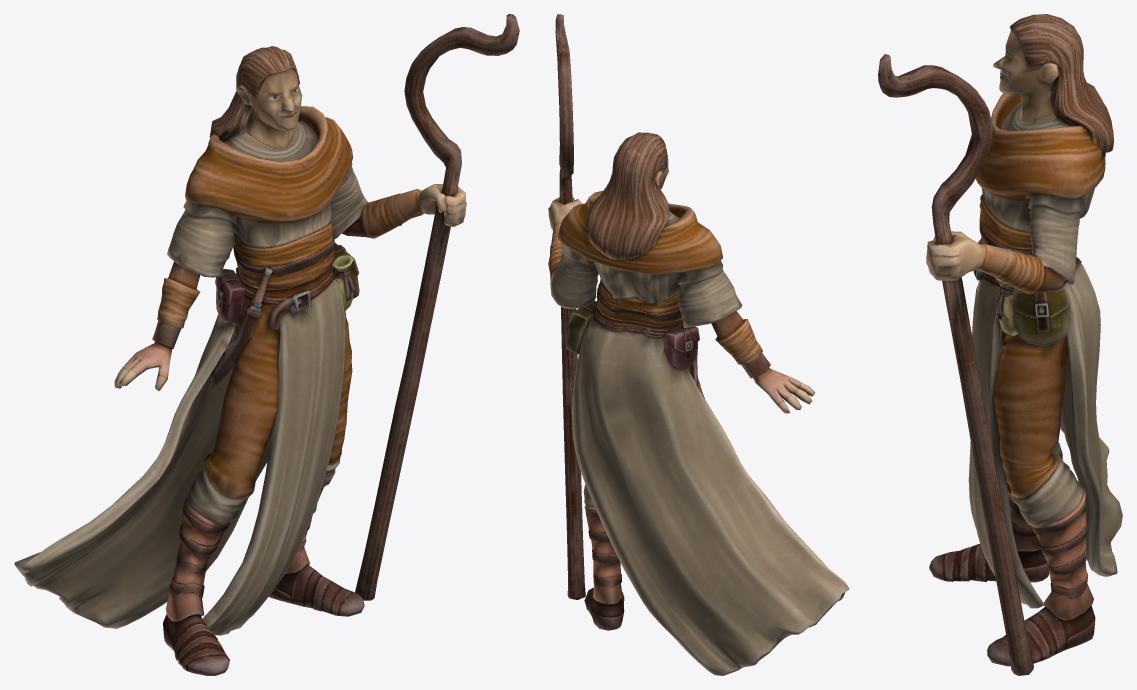
The model's file is MZ4250 - Druid Human Male 02.glb.
3 views of the same model, side by side, from view 1: azimuth 30°, elevation 25°; view 2: azimuth 150°, elevation 25°; view 3: azimuth 270°, elevation 25° (orthographic). The views are drawn at different scales.
Visible parts, largest first — view 1: DruidMale01; view 2: DruidMale01; view 3: DruidMale01.
Boxes of the visible parts, box(x1,y1,x2,y2) form: DruidMale01: box(14, 14, 519, 675); DruidMale01: box(548, 14, 849, 675); DruidMale01: box(878, 14, 1122, 675).
Bounding box in the file's own units: 0.7923 × 1.12 × 0.371.
Materials: 1 (1 with a texture image).
